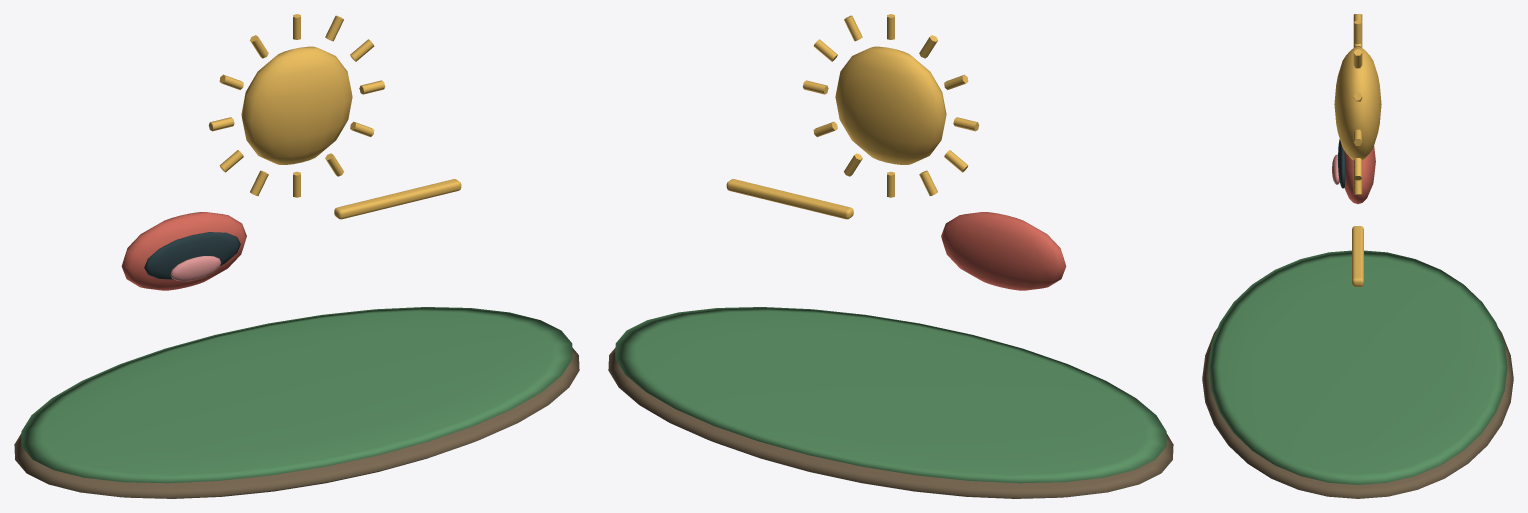
Rendered from day-sun.glb.
The picture shows the model from 3 angles, left to right: view 1: azimuth 30°, elevation 25°; view 2: azimuth 150°, elevation 25°; view 3: azimuth 270°, elevation 25°; orthographic projection. The views are drawn at different scales.
Parts seen in each view (by area): view 1: day-sun_surface_01, day-sun_surface_05, day-sun_surface_00, day-sun_surface_02, day-sun_surface_03, day-sun_surface_04; view 2: day-sun_surface_01, day-sun_surface_05, day-sun_surface_00, day-sun_surface_02; view 3: day-sun_surface_01, day-sun_surface_00, day-sun_surface_05, day-sun_surface_02.
Part boxes in pixels (x1,y1,x2,y2): day-sun_surface_01: (21,307,572,483); day-sun_surface_05: (208,14,461,219); day-sun_surface_00: (14,348,579,498); day-sun_surface_02: (121,212,246,290); day-sun_surface_03: (144,232,240,279); day-sun_surface_04: (170,256,221,281); day-sun_surface_01: (615,307,1166,483); day-sun_surface_05: (726,14,979,219); day-sun_surface_00: (608,348,1173,498); day-sun_surface_02: (941,212,1066,290); day-sun_surface_01: (1208,250,1507,484); day-sun_surface_00: (1202,328,1513,498); day-sun_surface_05: (1334,14,1381,286); day-sun_surface_02: (1344,146,1375,203).
Size of the model in its own units: 4.56 by 3.28 by 2.5.
